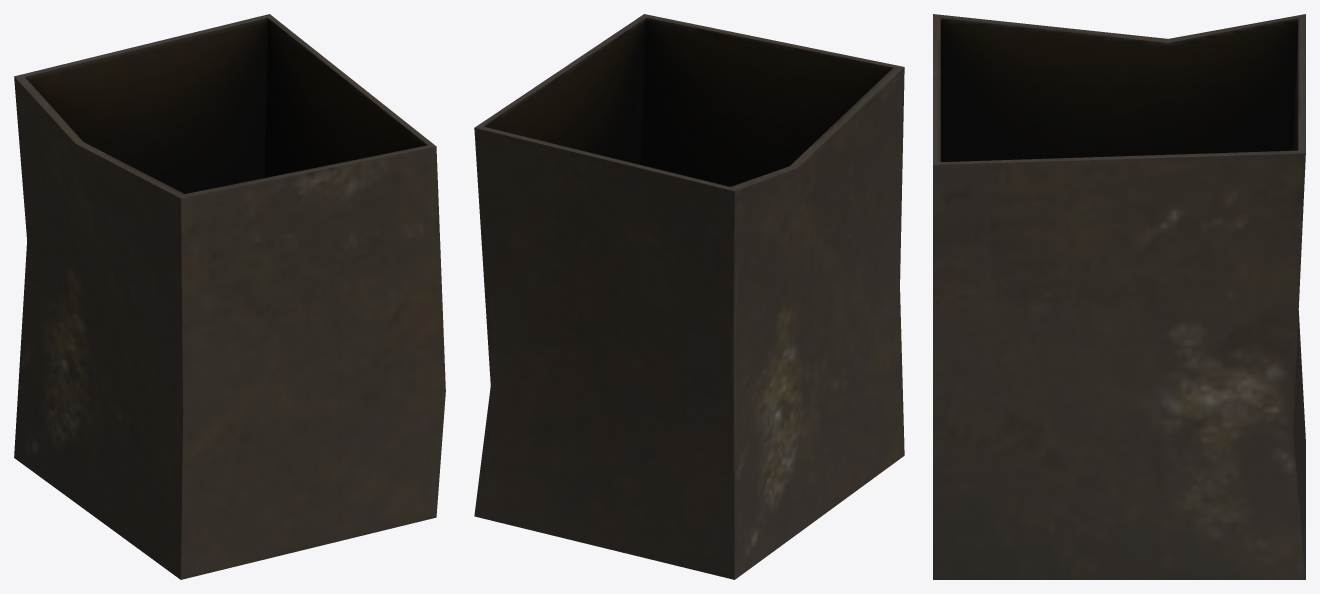
Rendered from CardboardBox_01.FBX.
3 views of the same model, side by side, from view 1: azimuth 30°, elevation 25°; view 2: azimuth 150°, elevation 25°; view 3: azimuth 270°, elevation 25° (orthographic). The views are drawn at different scales.
Visible parts, largest first — view 1: CardboardBox_01; view 2: CardboardBox_01; view 3: CardboardBox_01.
Part boxes in pixels (left/top/right/bottom): CardboardBox_01: left=14, top=14, right=445, bottom=579; CardboardBox_01: left=474, top=14, right=904, bottom=579; CardboardBox_01: left=933, top=14, right=1305, bottom=579.
Bounding box in the file's own units: 43.45 × 59.77 × 47.35.
